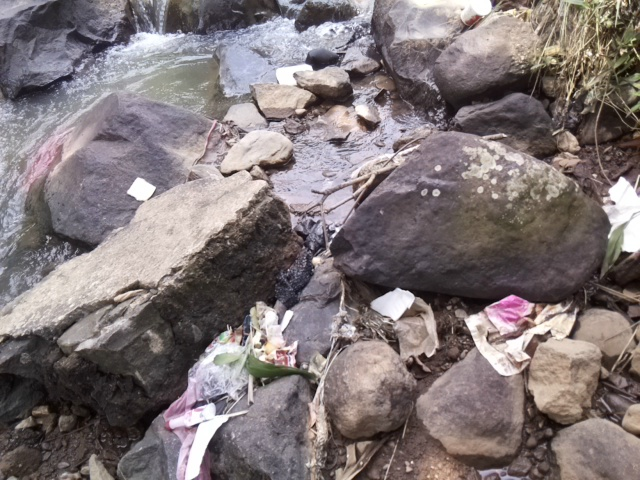Sampah_Plastik: (155, 298, 303, 480), (462, 293, 569, 373)
Sampah_Styrofoam: (601, 177, 640, 253), (364, 287, 419, 322), (126, 175, 157, 203), (276, 62, 312, 86), (459, 1, 489, 28)
